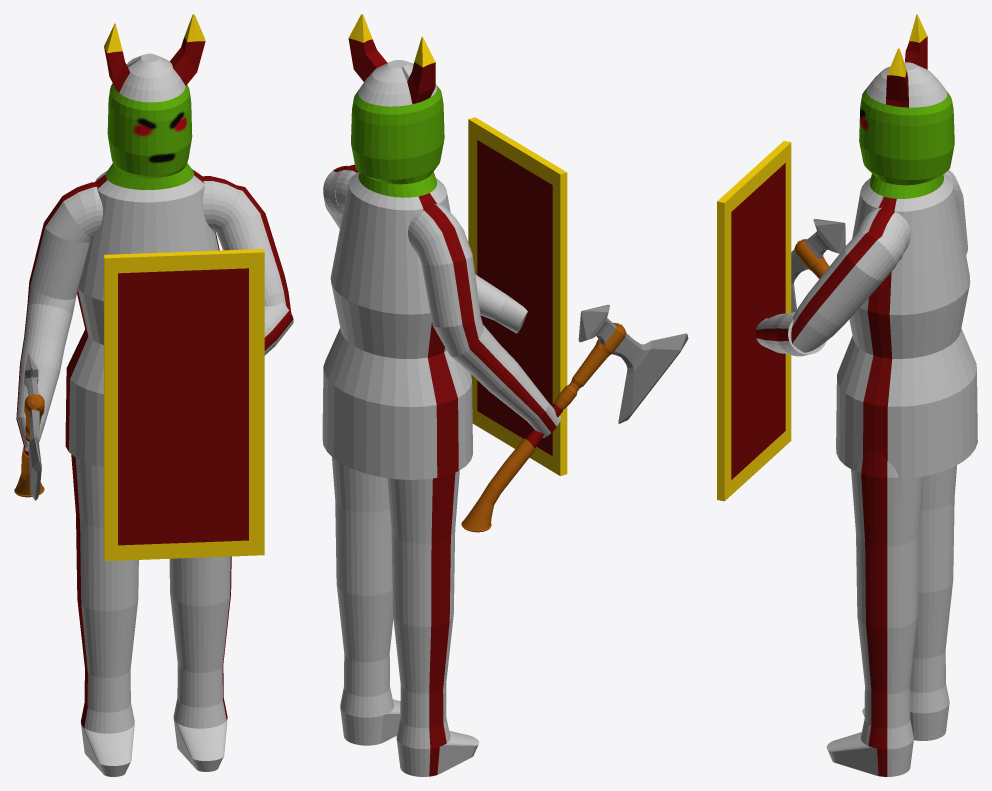
File: ОркРыцарь3.fbx
3 views of the same model, side by side, from view 1: azimuth 30°, elevation 25°; view 2: azimuth 150°, elevation 25°; view 3: azimuth 270°, elevation 25° (orthographic).
Visible parts, largest first — view 1: Куб.041, Цилиндр.215, Цилиндр.205, Цилиндр.208, Цилиндр.207, Цилиндр.211, Цилиндр.212, Цилиндр.209, Цилиндр.206, Куб.040, Цилиндр.213, Цилиндр.214 (+1 smaller); view 2: Цилиндр.215, Куб.041, Цилиндр.207, Цилиндр.208, Куб.040, Цилиндр.205, Цилиндр.206, Цилиндр.211, Цилиндр.212, Цилиндр.210, Цилиндр.213, Цилиндр.214; view 3: Цилиндр.215, Куб.041, Цилиндр.206, Цилиндр.205, Цилиндр.209, Цилиндр.208, Цилиндр.207, Куб.040, Цилиндр.210, Цилиндр.214.
Part boxes in pixels (box(x1,y1,x2,y2)): Куб.041: box(104, 249, 264, 561); Цилиндр.215: box(65, 14, 219, 467); Цилиндр.205: box(170, 595, 230, 771); Цилиндр.208: box(77, 600, 138, 776); Цилиндр.207: box(71, 454, 138, 611); Цилиндр.211: box(27, 196, 91, 315); Цилиндр.212: box(16, 304, 72, 451); Цилиндр.209: box(216, 185, 291, 312); Цилиндр.206: box(169, 556, 231, 606); Куб.040: box(14, 352, 44, 500); Цилиндр.213: box(62, 182, 102, 238); Цилиндр.214: box(202, 176, 238, 232); Цилиндр.215: box(322, 14, 472, 479); Куб.041: box(468, 117, 567, 475); Цилиндр.207: box(387, 470, 459, 626); Цилиндр.208: box(393, 615, 479, 776); Куб.040: box(461, 304, 688, 532); Цилиндр.205: box(336, 584, 400, 745); Цилиндр.206: box(332, 457, 392, 595); Цилиндр.211: box(418, 227, 483, 356); Цилиндр.212: box(451, 324, 561, 437); Цилиндр.210: box(475, 274, 527, 333); Цилиндр.213: box(408, 204, 462, 255); Цилиндр.214: box(329, 164, 358, 214); Цилиндр.215: box(836, 14, 977, 478); Куб.041: box(717, 141, 791, 501); Цилиндр.206: box(851, 450, 923, 628); Цилиндр.205: box(826, 616, 917, 776); Цилиндр.209: box(791, 231, 904, 352); Цилиндр.208: box(862, 582, 952, 740); Цилиндр.207: box(918, 465, 956, 592); Куб.040: box(791, 219, 845, 312); Цилиндр.210: box(755, 311, 826, 356); Цилиндр.214: box(856, 207, 910, 260).
Bounding box in the file's own units: 50.29 × 120 × 39.29.
